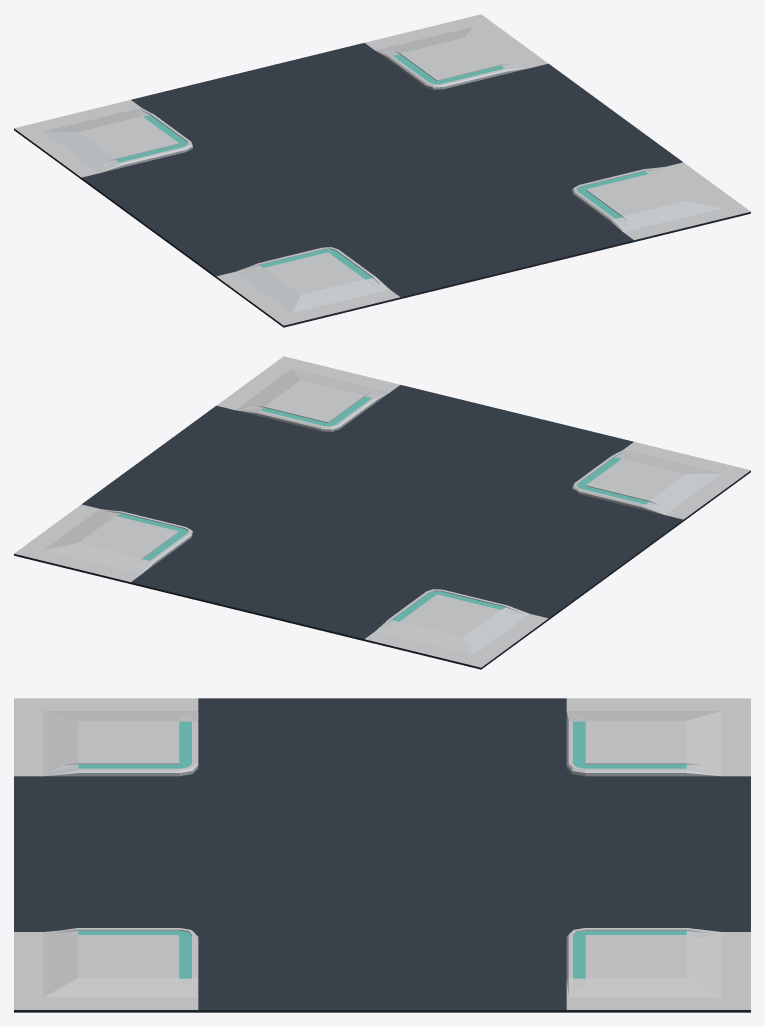
Rendered from two-lane-street-tile-8d1c14.glb.
The picture shows the model from 3 angles, top to bottom: view 1: azimuth 30°, elevation 25°; view 2: azimuth 150°, elevation 25°; view 3: azimuth 270°, elevation 25°; orthographic projection. The views are drawn at different scales.
Visible parts, largest first — view 1: street-surface; view 2: street-surface; view 3: street-surface.
Boxes of the visible parts, x1=… form: street-surface: x1=14, y1=14, x2=750, y2=327; street-surface: x1=14, y1=356, x2=750, y2=669; street-surface: x1=14, y1=698, x2=750, y2=1012.
Size of the model in its own units: 8 by 0.11 by 8.
